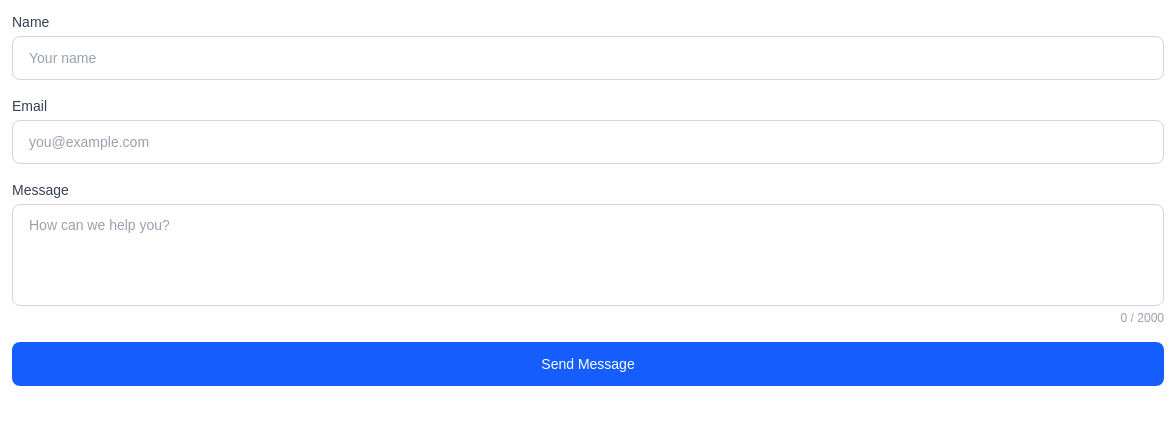
Test case: InitialForm › shows invalid email error
In the field labelled "Name": x=588, y=58 [12,36,1164,80], type "Ali"
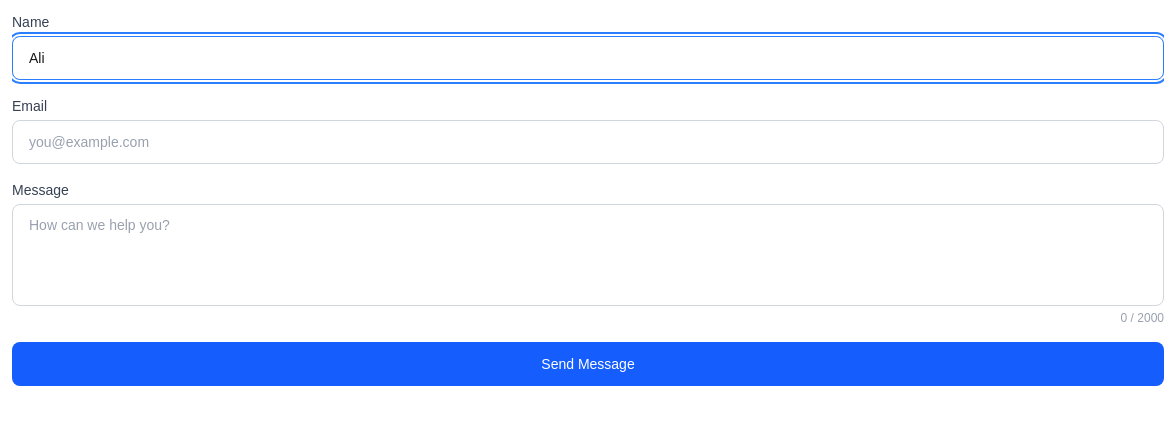
In the field labelled "Email": x=588, y=142 [12,120,1164,164], type "not-an-email"
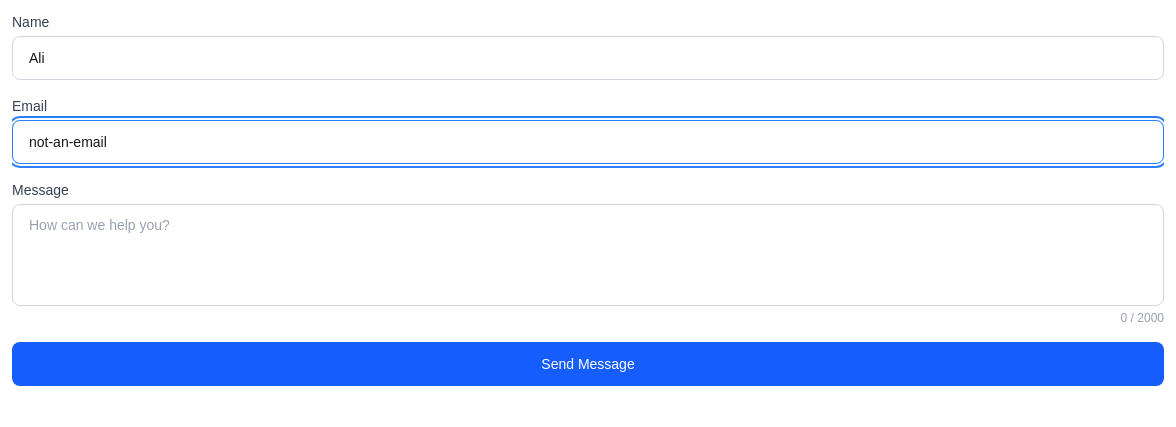
In the text box labelled "Message": x=588, y=255 [12,204,1164,306], type "Hello"
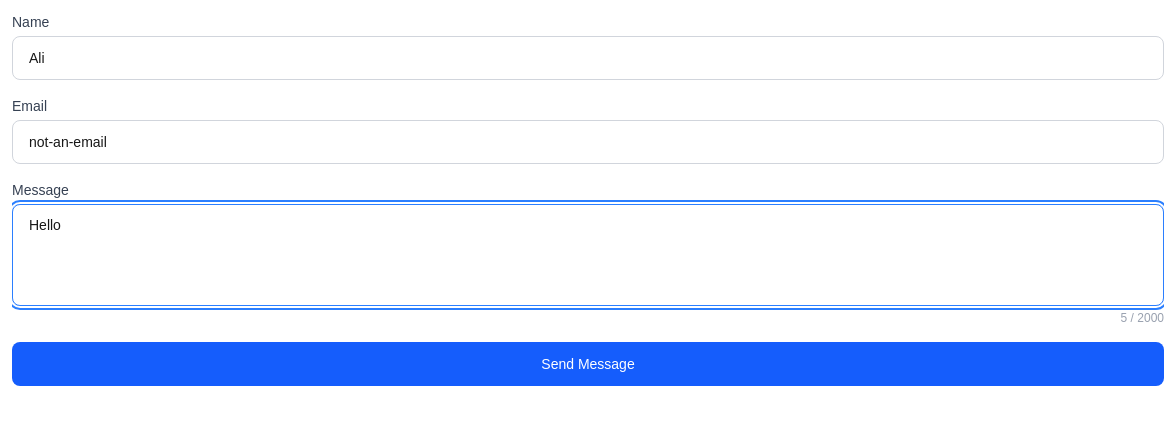
Click the button "Send Message": x=588, y=364 [12,342,1164,386]
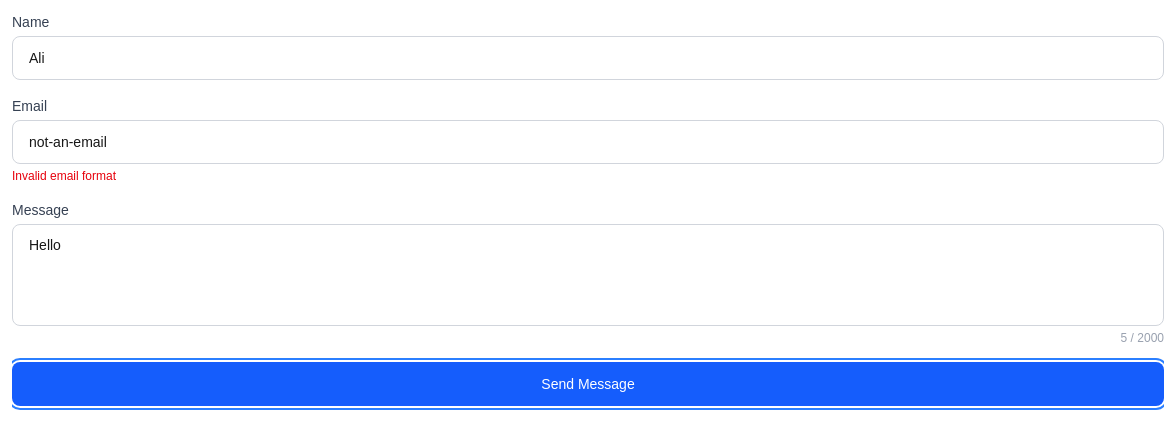
Expected: the text "Invalid email format" is shown, [12,169,116,183]
